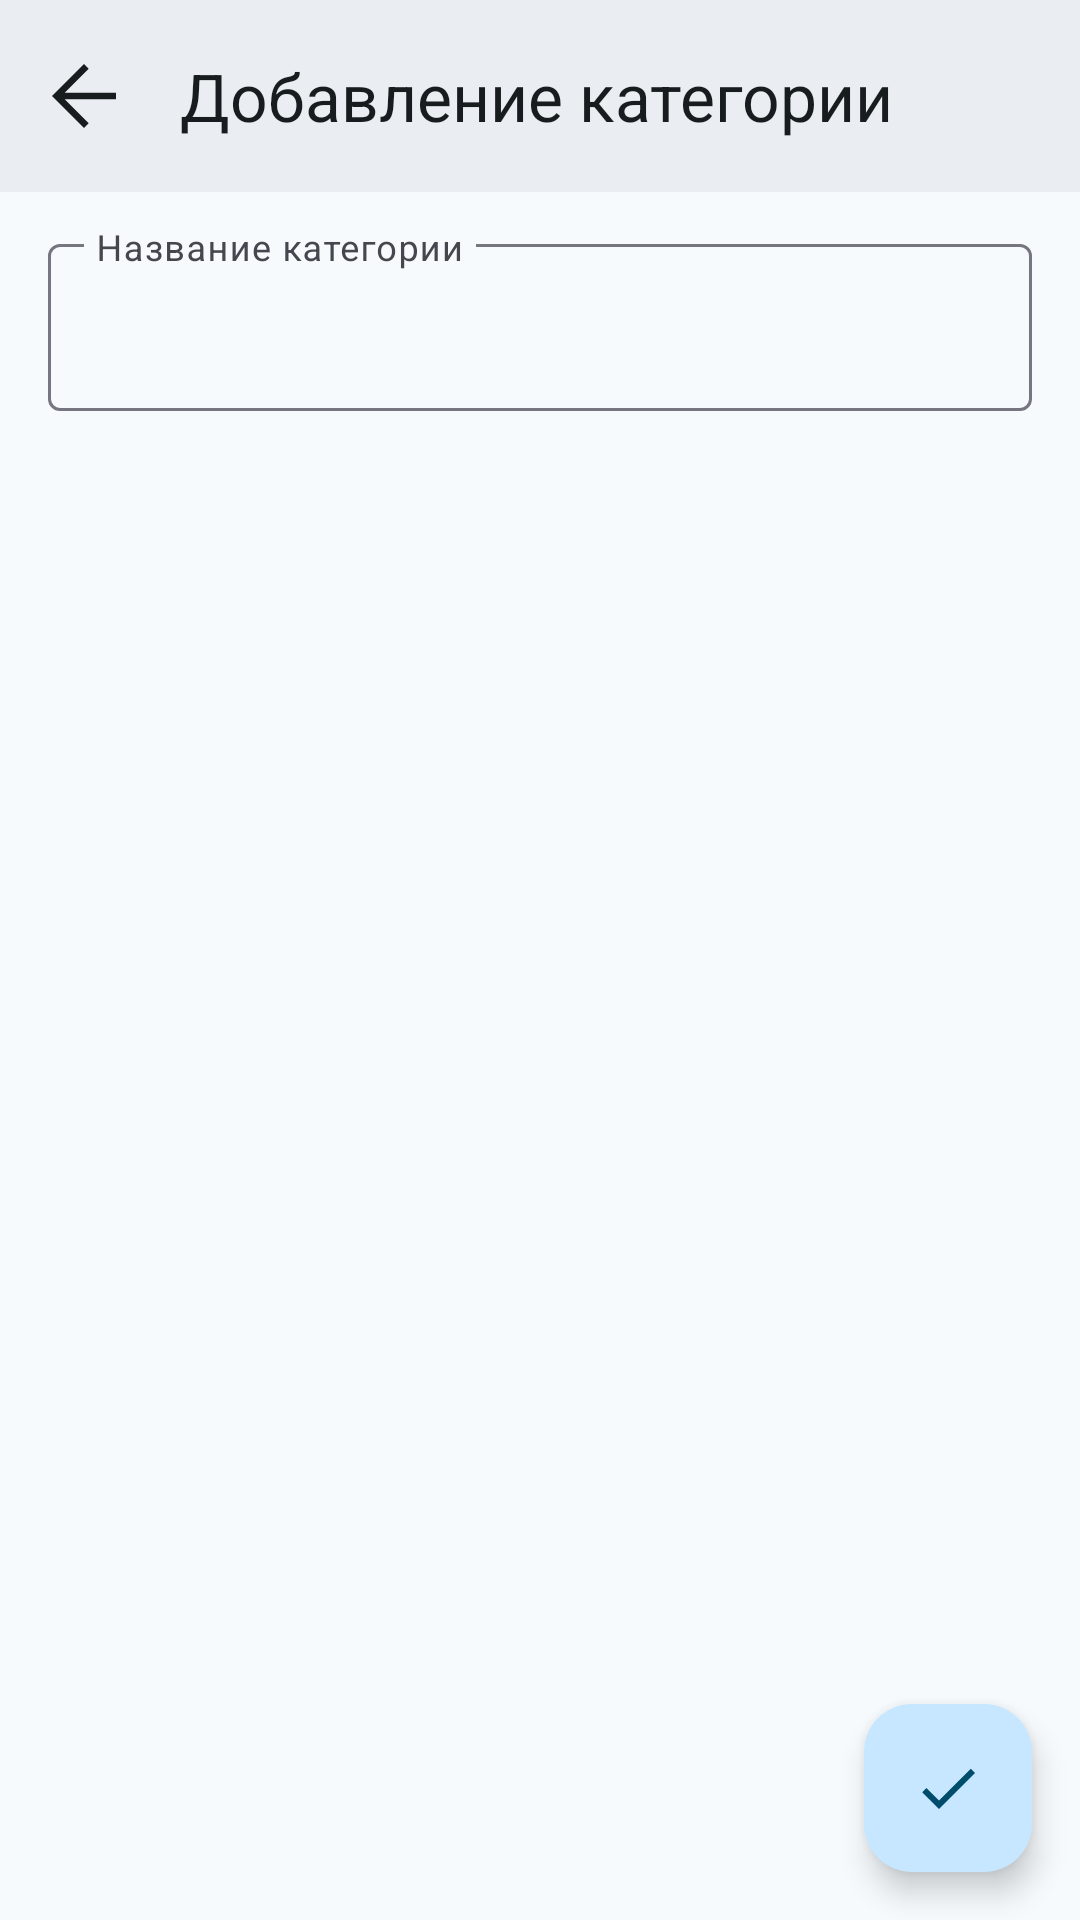

Screen size 1080×1920. Icon name, then its box in pixels as [x1, y1, x2, y2]:
Готово: [864, 1704, 1032, 1872]
